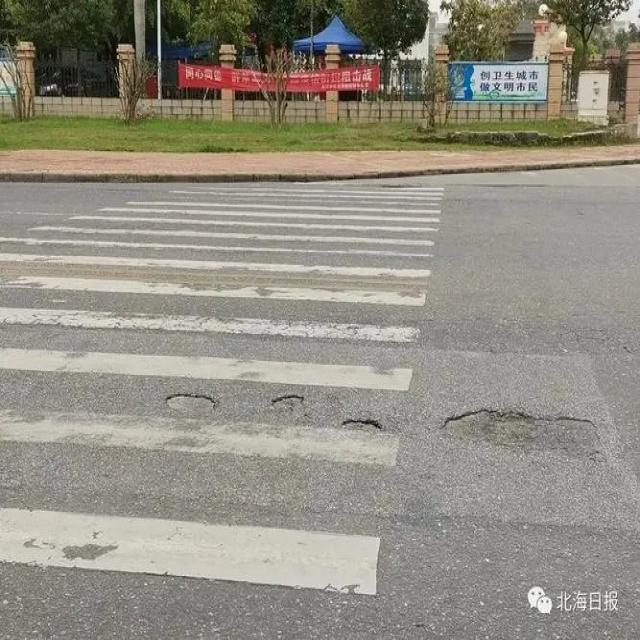Pothole: (440, 407, 600, 462), (164, 390, 216, 420), (342, 416, 384, 434), (269, 390, 306, 407)
